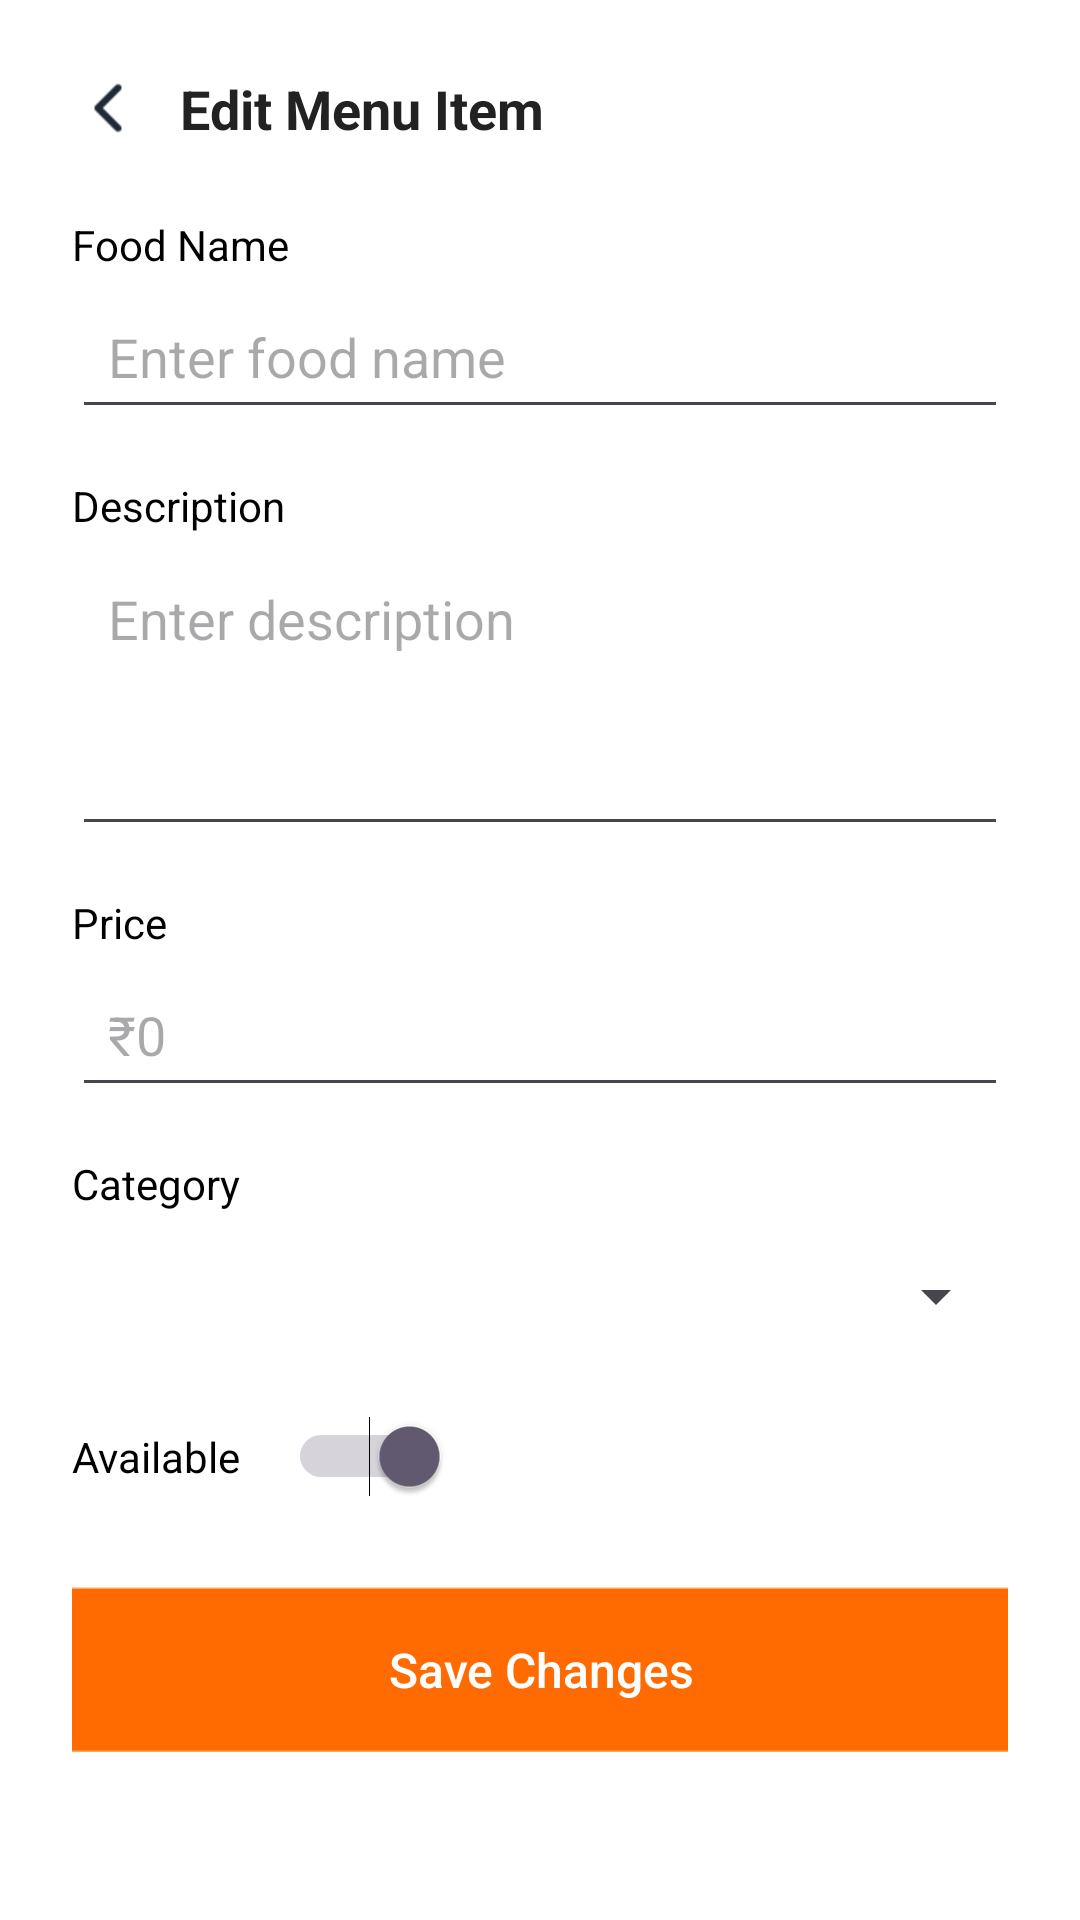

Named icons in this screenshot (1080×1920) and their bounding boxes, [x1, y1, x2, y2]:
Back: [94, 84, 122, 133]
